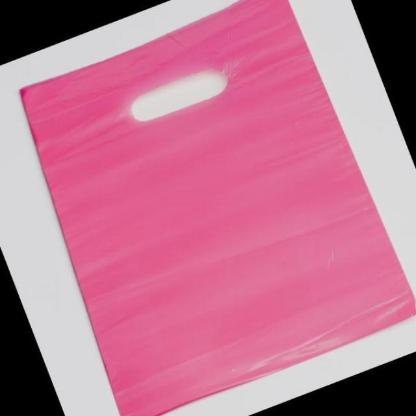Others: (19, 3, 416, 415)
